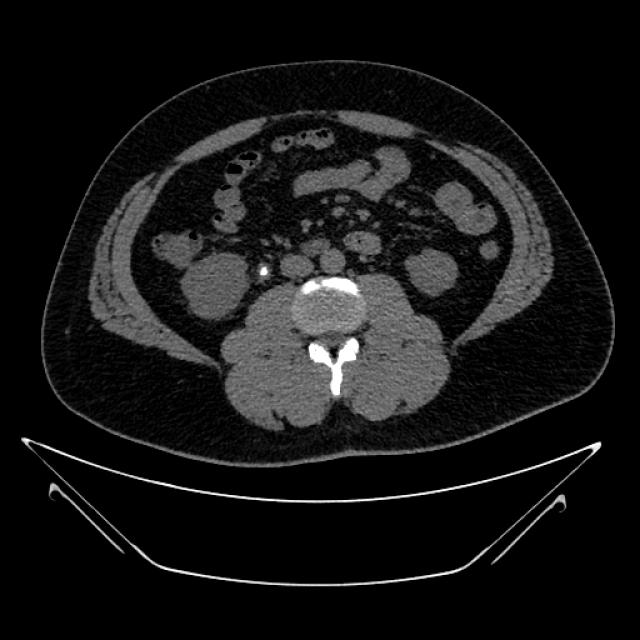kidneystone: (256, 261, 272, 282)
